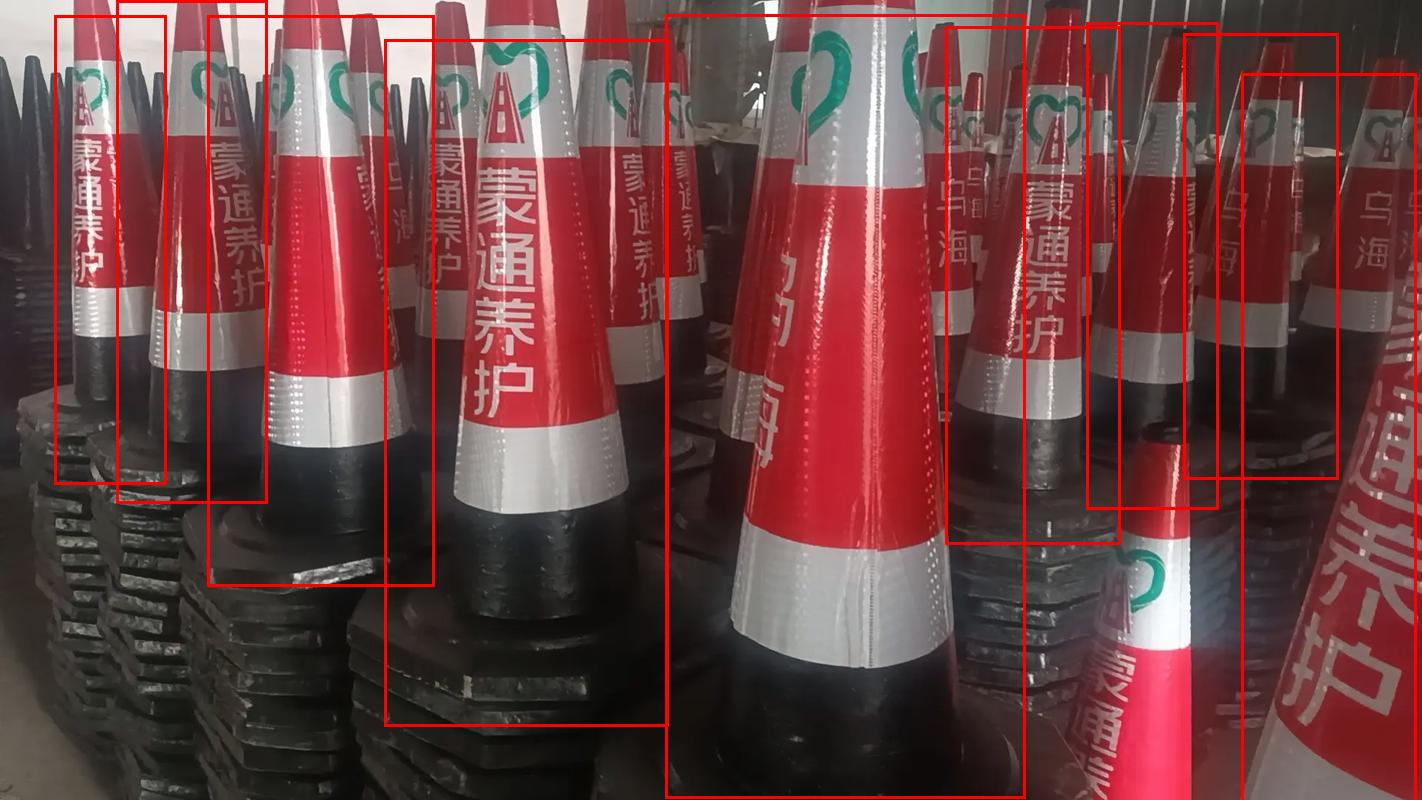traffic_cone: (716, 2, 1039, 800), (399, 2, 688, 754), (219, 5, 454, 603), (947, 7, 1139, 546), (1185, 36, 1355, 484), (116, 1, 267, 482), (1098, 23, 1219, 505), (49, 2, 150, 471)
